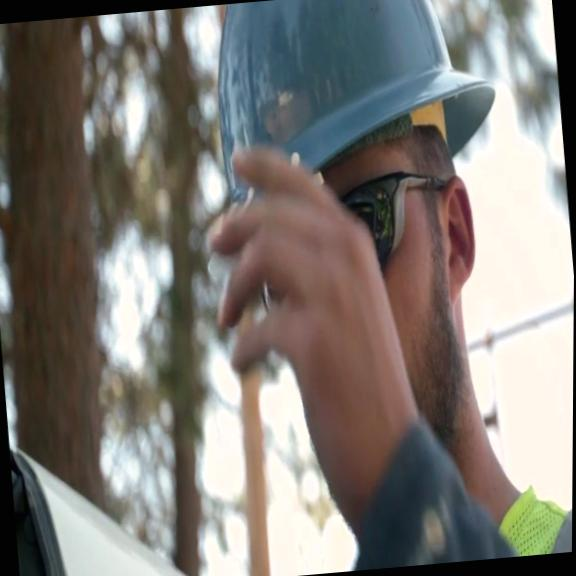safety_vest: (490, 474, 572, 558)
